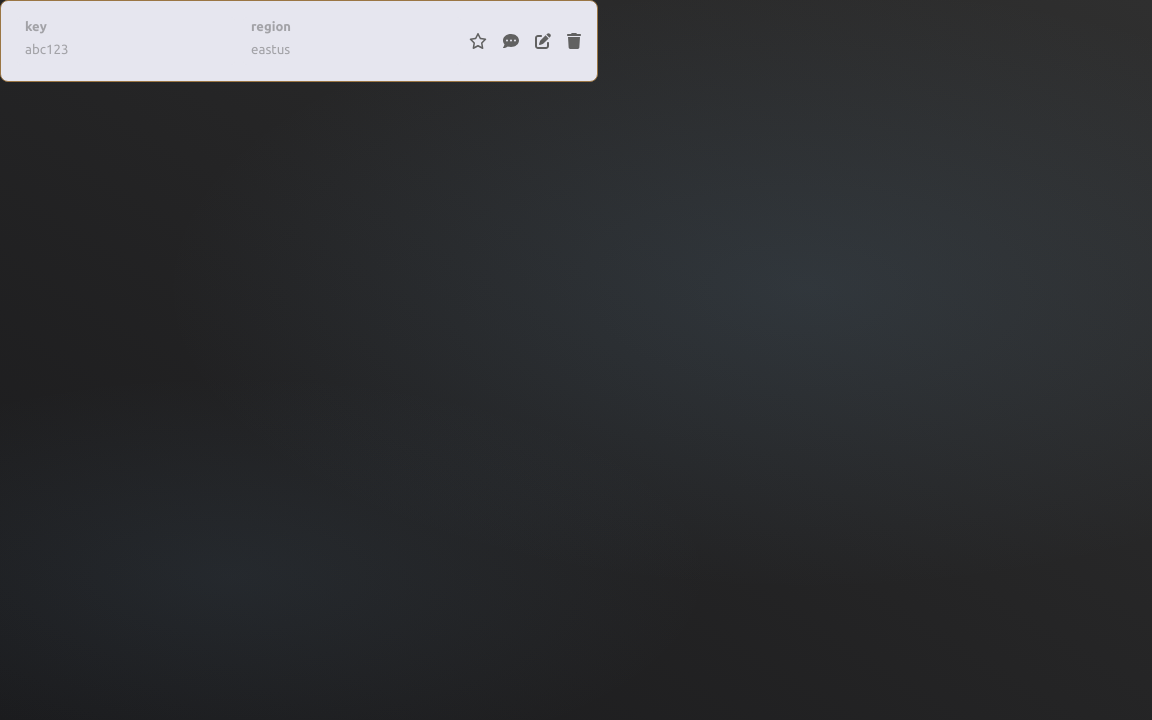
Test: CredentialCard › opens the voice selector, fetches voices, and shows them once loaded
Click the button with test id "credential-card-voices". click: (511, 41)
box: [503, 33, 519, 49]
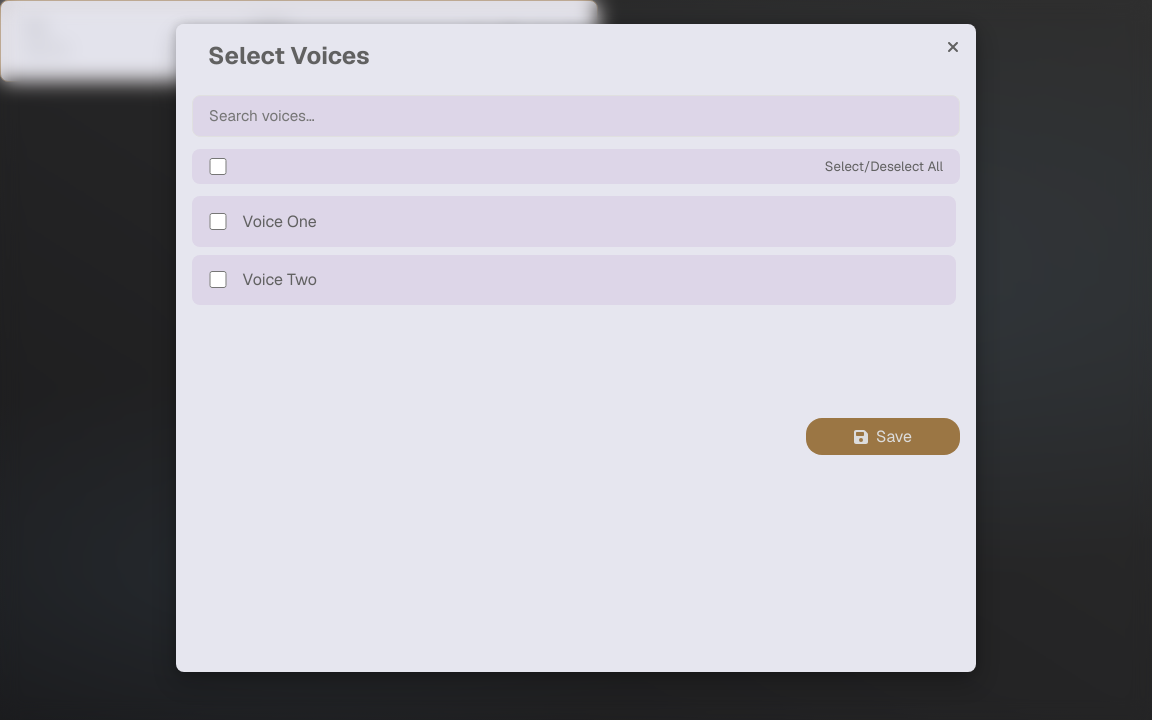
Check: the text "Voice One" is shown, box [243, 211, 317, 232]
Check: the text "Voice Two" is shown, box [243, 269, 317, 290]
